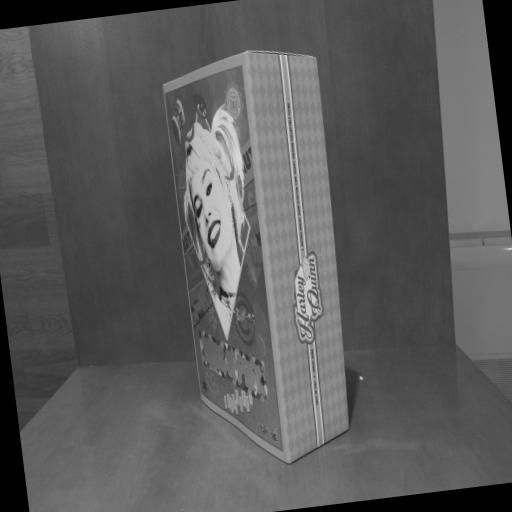Harley: (160, 42, 366, 474)
